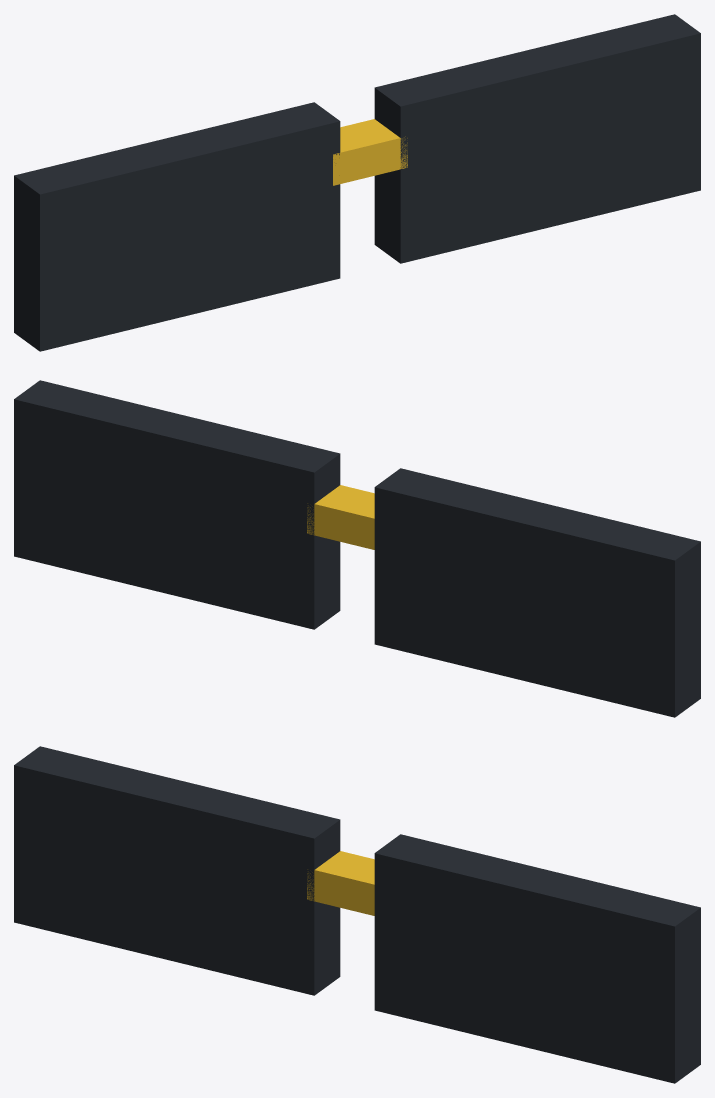
Rendered from CM_Accessory_Sunglasses.fbx.
The picture shows the model from 3 angles, top to bottom: view 1: azimuth 30°, elevation 25°; view 2: azimuth 150°, elevation 25°; view 3: azimuth 330°, elevation 25°; orthographic projection.
Visible parts, largest first — view 1: Handle; view 2: Handle; view 3: Handle.
Boxes of the visible parts, x1,y1,x2,y2 form: Handle: [14, 14, 700, 351]; Handle: [14, 380, 700, 717]; Handle: [14, 746, 700, 1083].
Size of the model in its own units: 0.88 by 0.06 by 0.2.
1 material, 1 textured.
